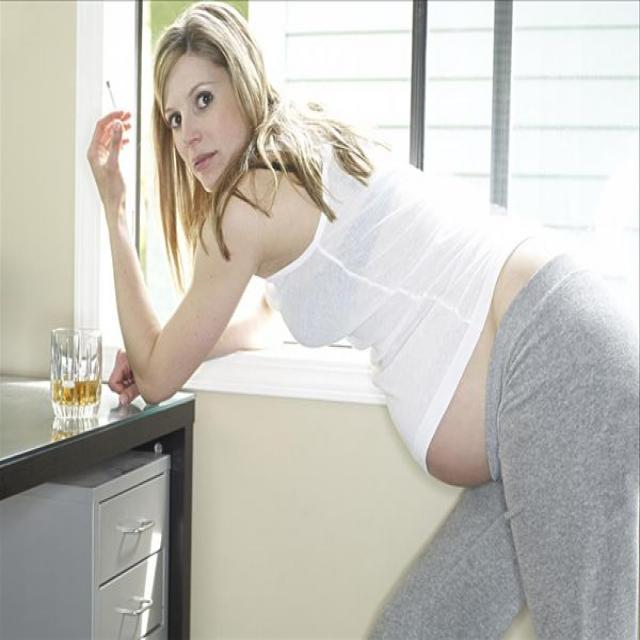smoking: (106, 77, 125, 131)
